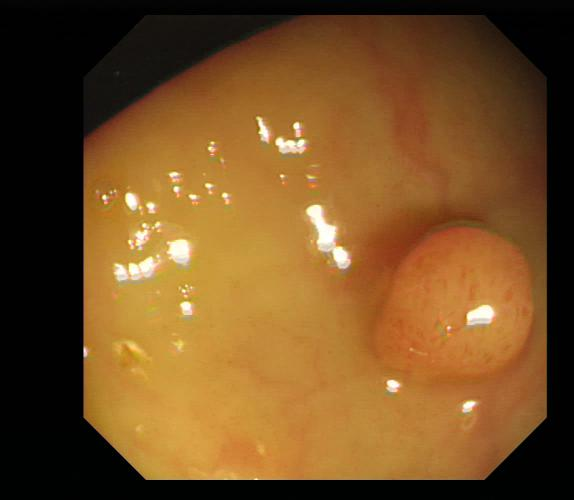polyp: (370, 221, 535, 390)
